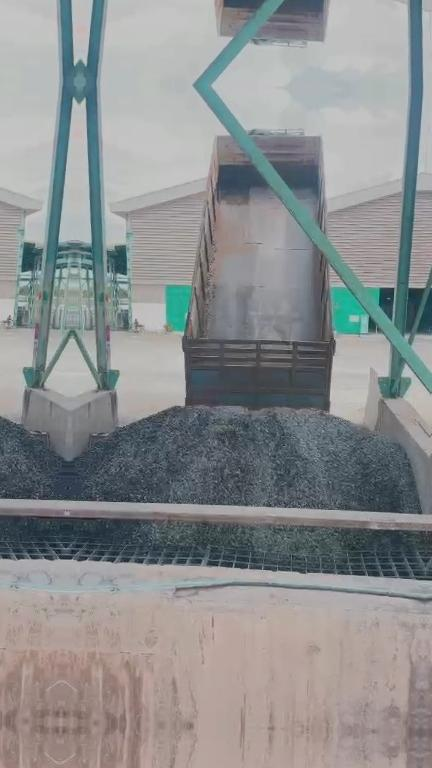gravel: (67, 407, 420, 512), (74, 521, 410, 551)
